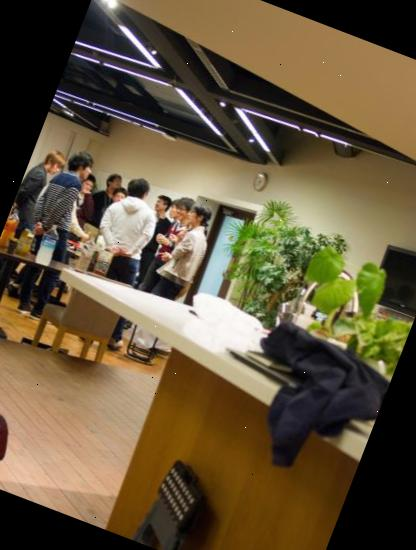Salak: (0, 384, 33, 473)
